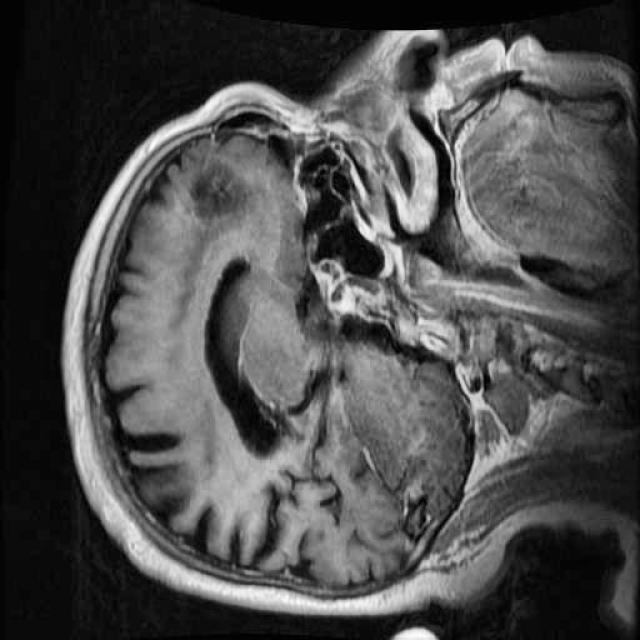Tumor: (178, 147, 263, 244)
